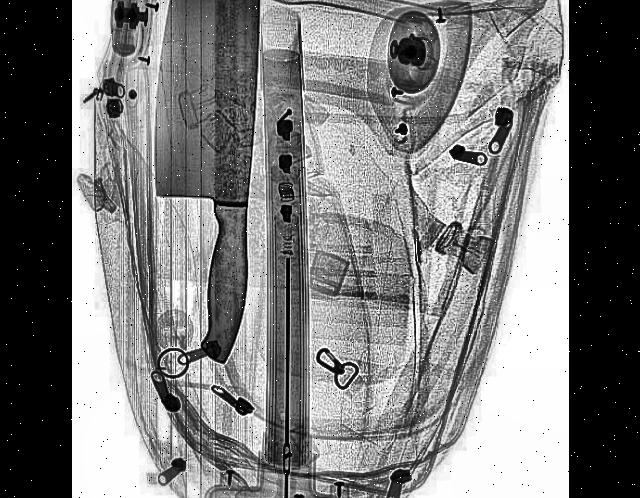Knife: (142, 0, 263, 366)
